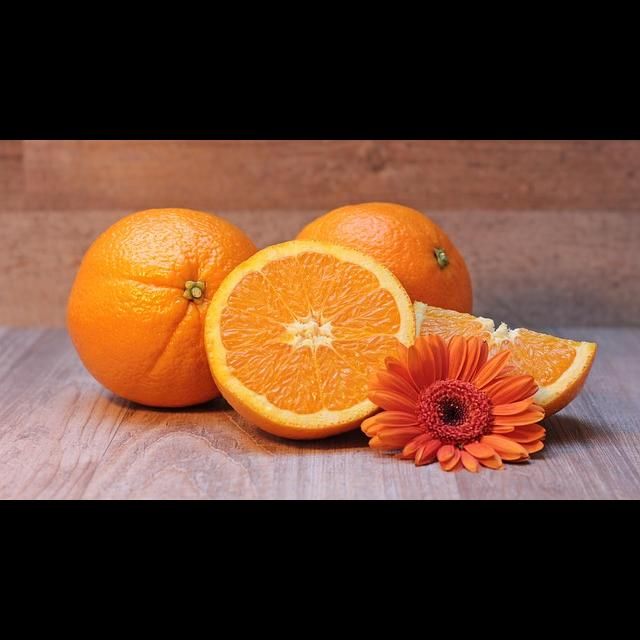orange: (61, 183, 278, 411), (201, 226, 419, 444), (283, 180, 492, 350), (382, 274, 599, 425)
